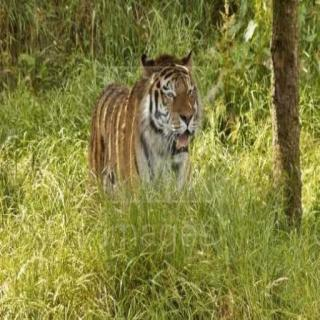Tiger: (67, 47, 211, 213)
